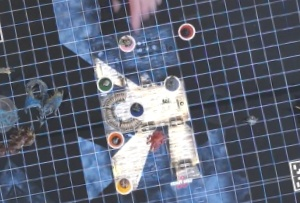blue: (127, 99, 145, 118)
green: (95, 73, 115, 92)
orange: (102, 127, 126, 149)
pink: (115, 30, 137, 52)
red: (174, 17, 198, 42)
violet: (161, 71, 183, 94)
yellow: (112, 173, 135, 194)
